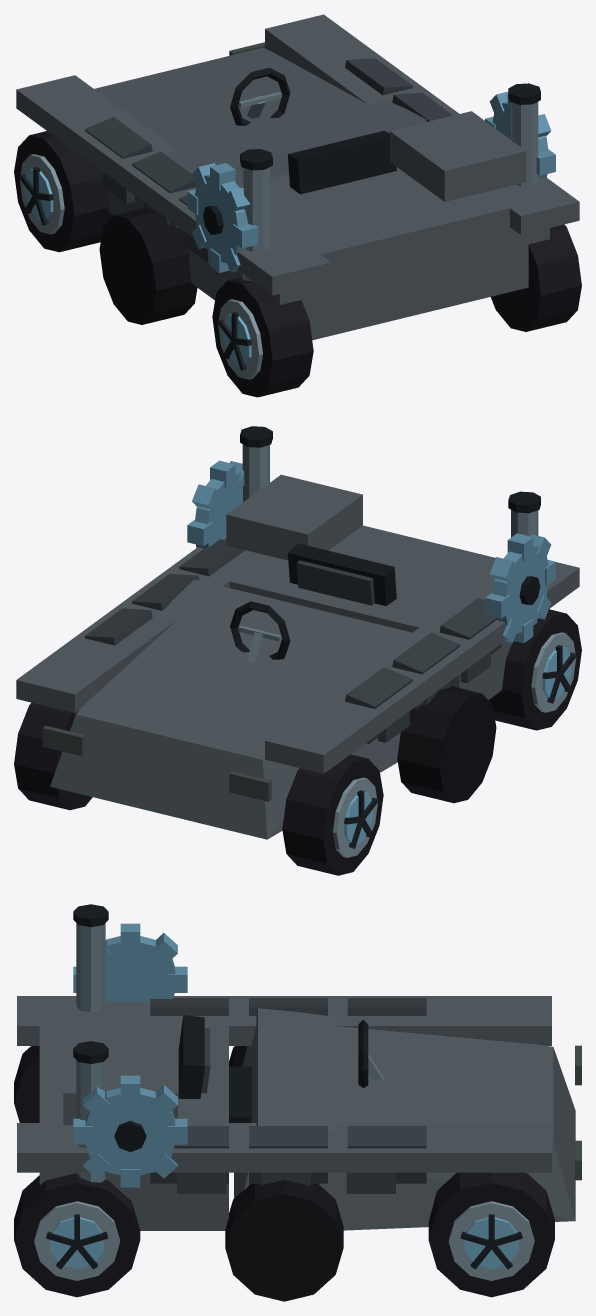
File: kart.glb
The picture shows the model from 3 angles, top to bottom: view 1: azimuth 30°, elevation 25°; view 2: azimuth 150°, elevation 25°; view 3: azimuth 270°, elevation 25°; orthographic projection. The views are drawn at different scales.
Parts seen in each view (by area): view 1: identity-apc-apc-armored-hull, wheel-rear-left, wheel-front-left, identity-apc-motif-gears, identity-apc-driver-cockpit, wheel-rear-right, identity-apc-motif-armor, identity-apc-motif-exhaust; view 2: identity-apc-apc-armored-hull, wheel-front-left, identity-apc-motif-gears, identity-apc-motif-armor, wheel-rear-left, identity-apc-driver-cockpit, wheel-front-right, identity-apc-motif-exhaust; view 3: identity-apc-apc-armored-hull, identity-apc-motif-gears, wheel-front-right, wheel-rear-right, identity-apc-motif-armor, identity-apc-motif-exhaust, identity-apc-driver-cockpit, wheel-rear-left.
Boxes of the visible parts, <box> form: identity-apc-apc-armored-hull: <box>16,14,579,340</box>; wheel-rear-left: <box>212,277,313,397</box>; wheel-front-left: <box>14,131,112,252</box>; identity-apc-motif-gears: <box>187,91,555,272</box>; identity-apc-driver-cockpit: <box>230,67,396,194</box>; wheel-rear-right: <box>491,224,581,331</box>; identity-apc-motif-armor: <box>84,58,453,228</box>; identity-apc-motif-exhaust: <box>240,83,540,280</box>; identity-apc-apc-armored-hull: <box>16,474,579,839</box>; wheel-front-left: <box>282,754,383,875</box>; identity-apc-motif-gears: <box>187,460,555,643</box>; identity-apc-motif-armor: <box>84,539,501,743</box>; wheel-rear-left: <box>488,609,581,730</box>; identity-apc-driver-cockpit: <box>230,543,396,663</box>; wheel-front-right: <box>14,702,92,810</box>; identity-apc-motif-exhaust: <box>240,426,540,625</box>; identity-apc-apc-armored-hull: <box>17,996,581,1301</box>; identity-apc-motif-gears: <box>73,923,187,1187</box>; wheel-front-right: <box>428,1172,554,1297</box>; wheel-rear-right: <box>14,1173,140,1297</box>; identity-apc-motif-armor: <box>150,998,426,1183</box>; identity-apc-motif-exhaust: <box>73,904,108,1182</box>; identity-apc-driver-cockpit: <box>178,1015,383,1122</box>; wheel-rear-left: <box>14,1046,39,1122</box>.
Bounding box in the file's own units: 2.08 × 1.33 × 2.88.
